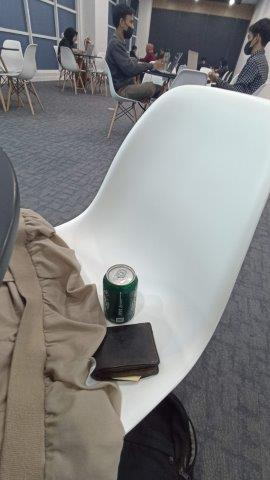kaleng: (103, 264, 139, 324)
